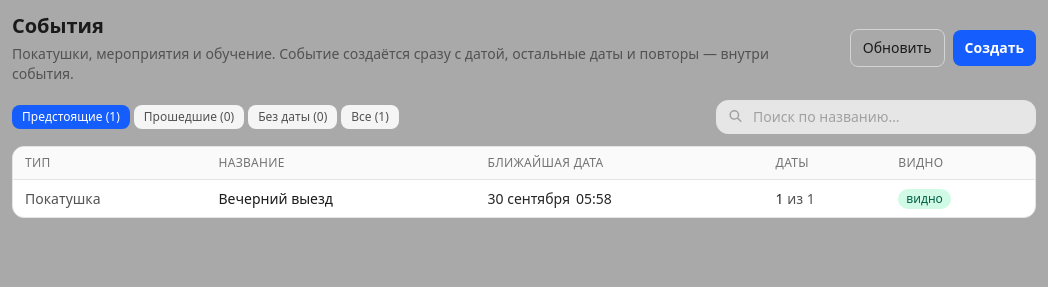
Test: EventsPage › ошибку переключения видимости показывает в интерфейсе, а не в window.alert
The width and height of the screenshot is (1048, 287).
Click the button "видно".
click(925, 199)  # box [898, 189, 951, 209]
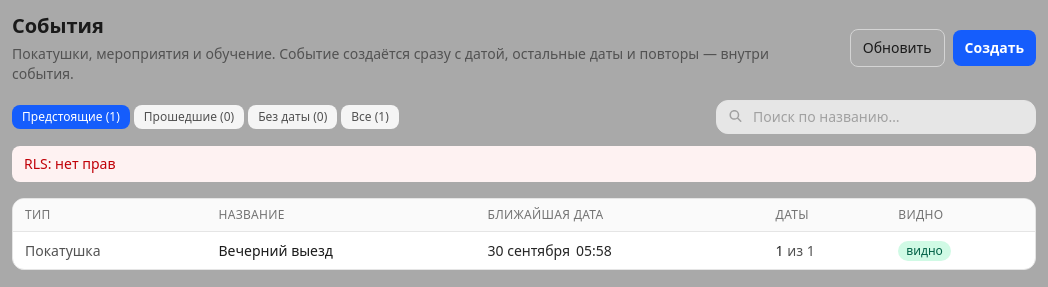
Result: the text "RLS: нет прав" is shown at [12, 146, 1036, 182]
